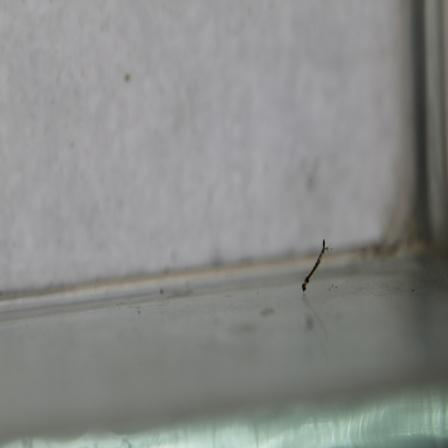Jentik-Nyamuk: (298, 234, 332, 294)
